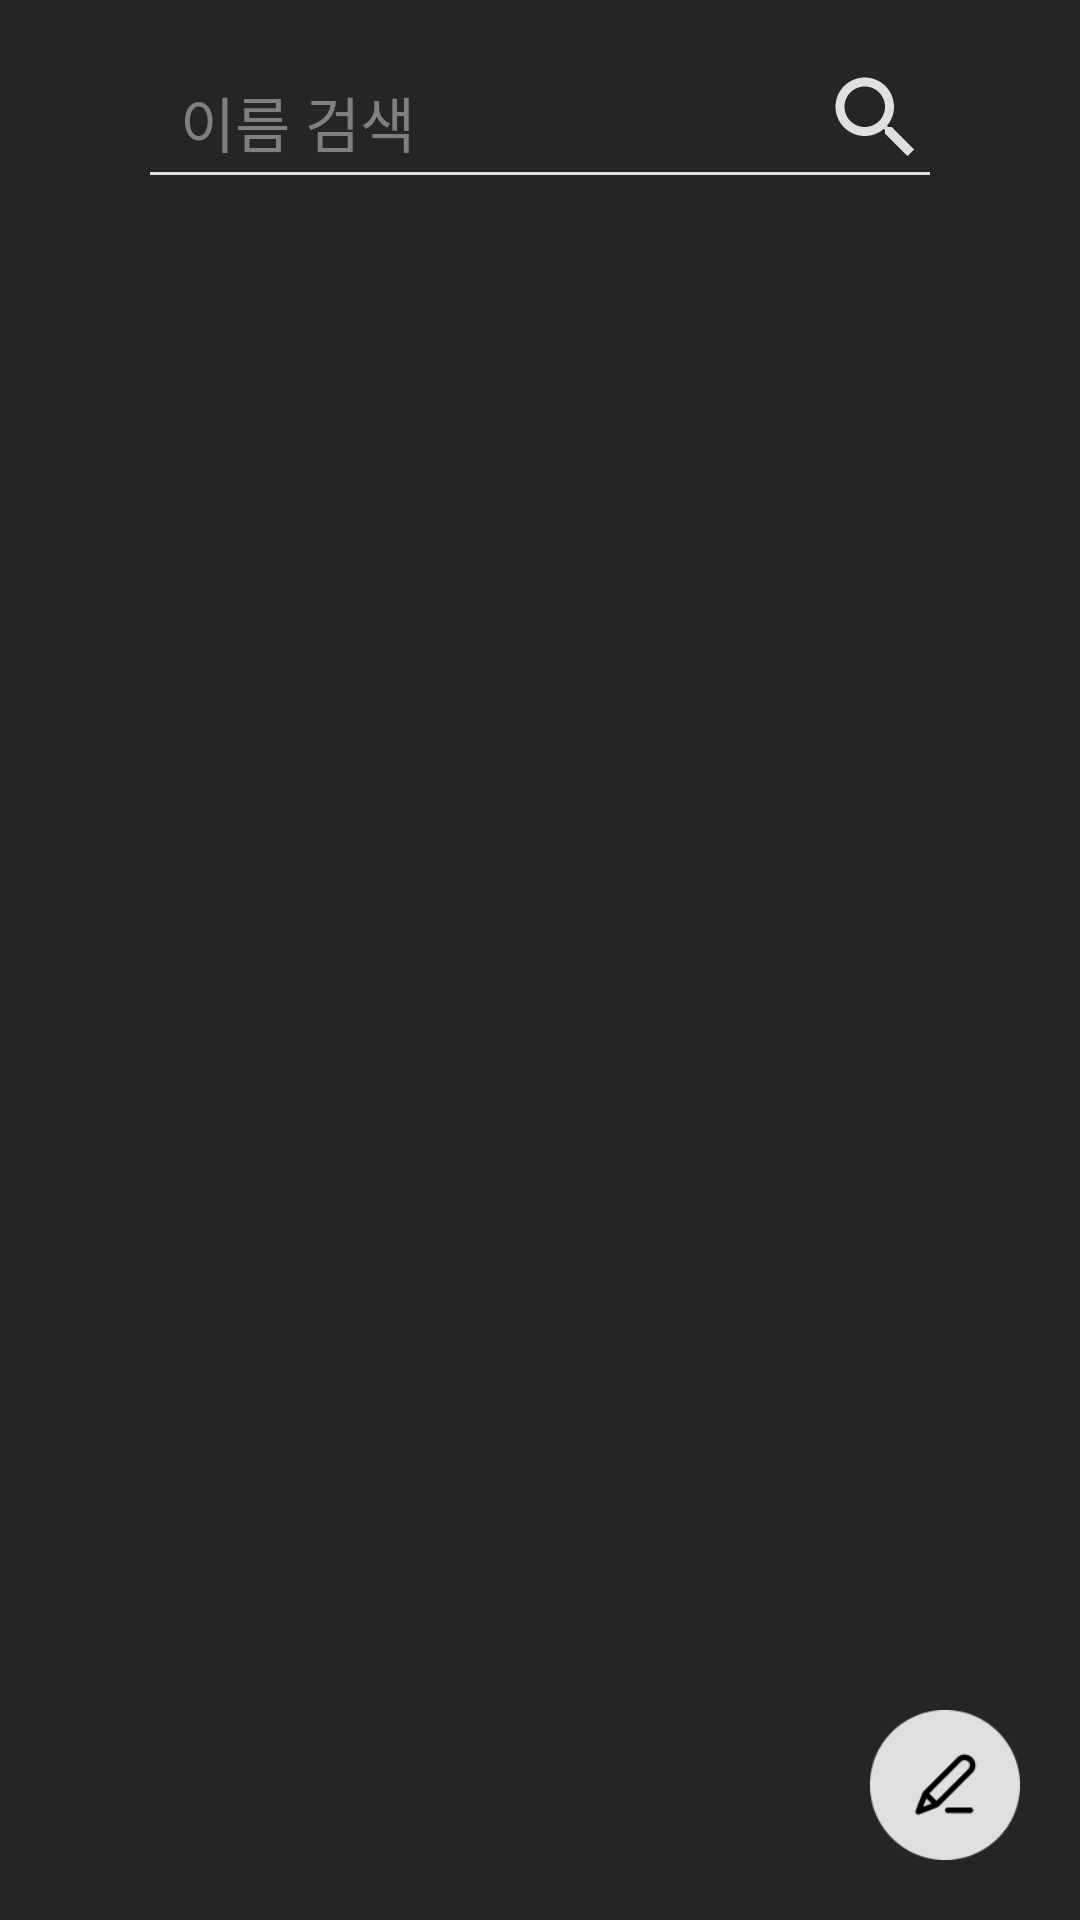

Screen size 1080 × 1920. Icon name, then its box in pixels as (x1, y1, x2, y2):
write: (870, 1710, 1020, 1860)
